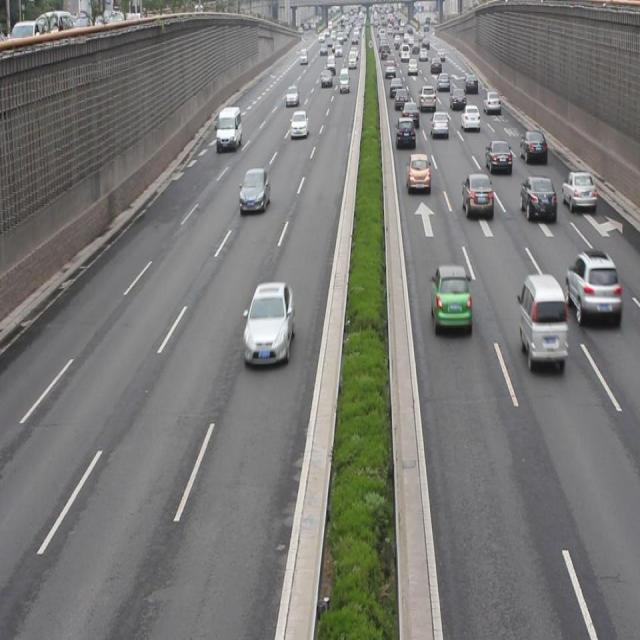car: (242, 283, 293, 369), (566, 249, 620, 329), (429, 264, 470, 333), (560, 170, 596, 214), (519, 177, 555, 219), (238, 167, 270, 212), (461, 173, 492, 218), (518, 129, 546, 164), (406, 153, 429, 195), (484, 138, 510, 173), (395, 116, 414, 148), (289, 111, 308, 138), (430, 111, 447, 138), (461, 105, 478, 130)
truck: (518, 274, 566, 373), (216, 108, 242, 150)
